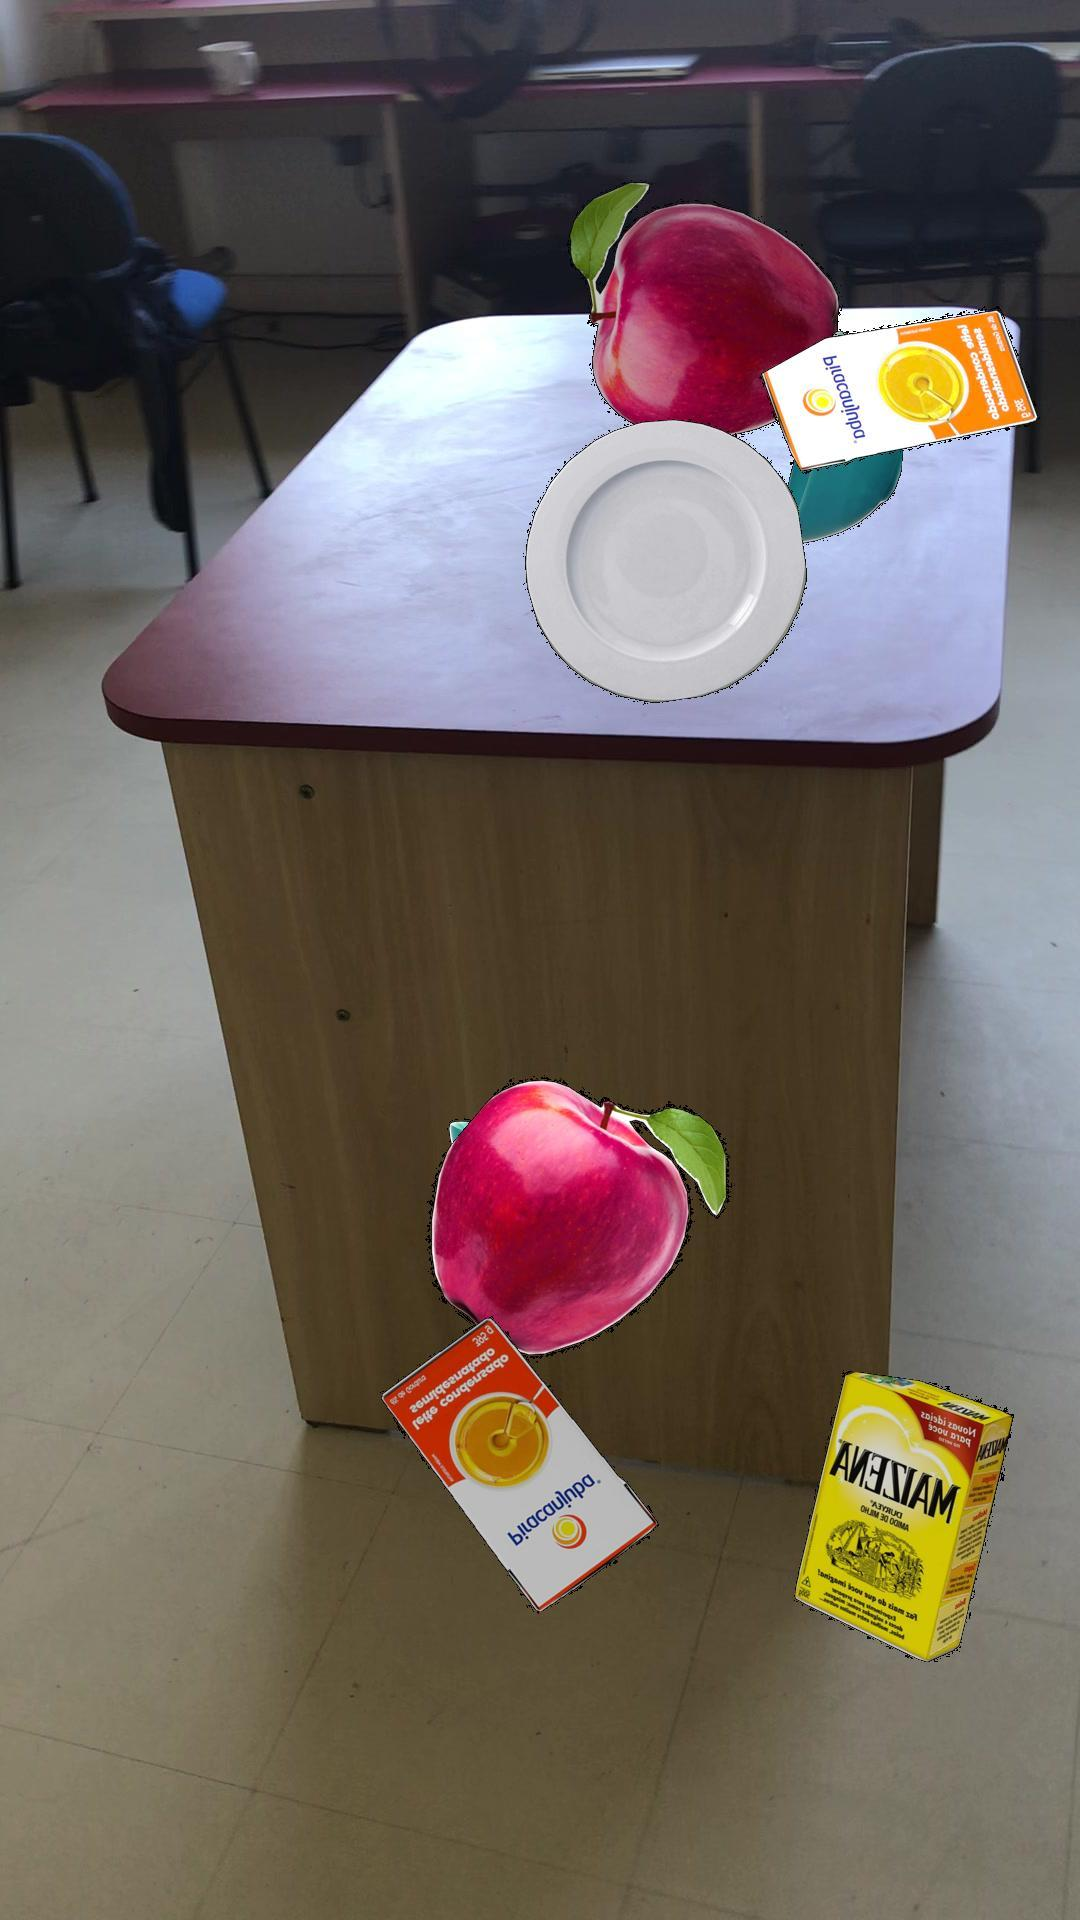apple: (423, 1076, 731, 1357), (566, 181, 839, 434)
bowl: (786, 328, 902, 542), (447, 1120, 468, 1142)
plate: (524, 418, 806, 703)
